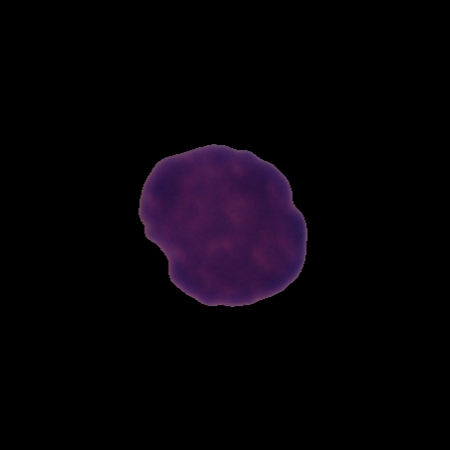HEM: (136, 140, 312, 310)
